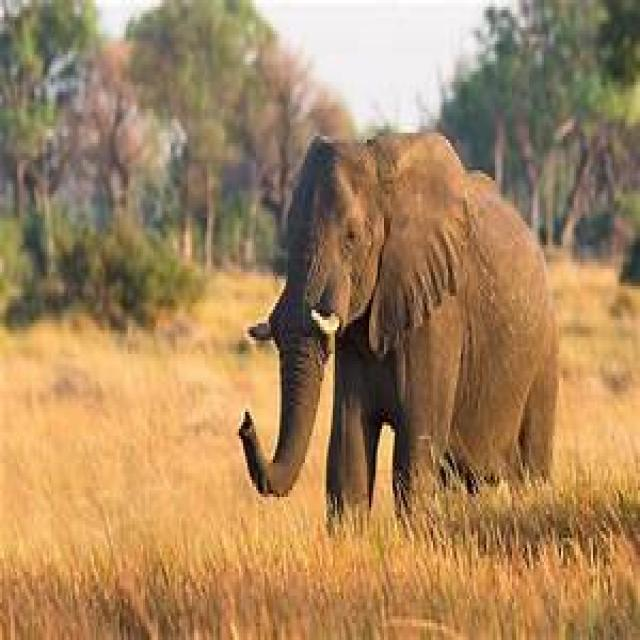elephant: (241, 133, 561, 531)
